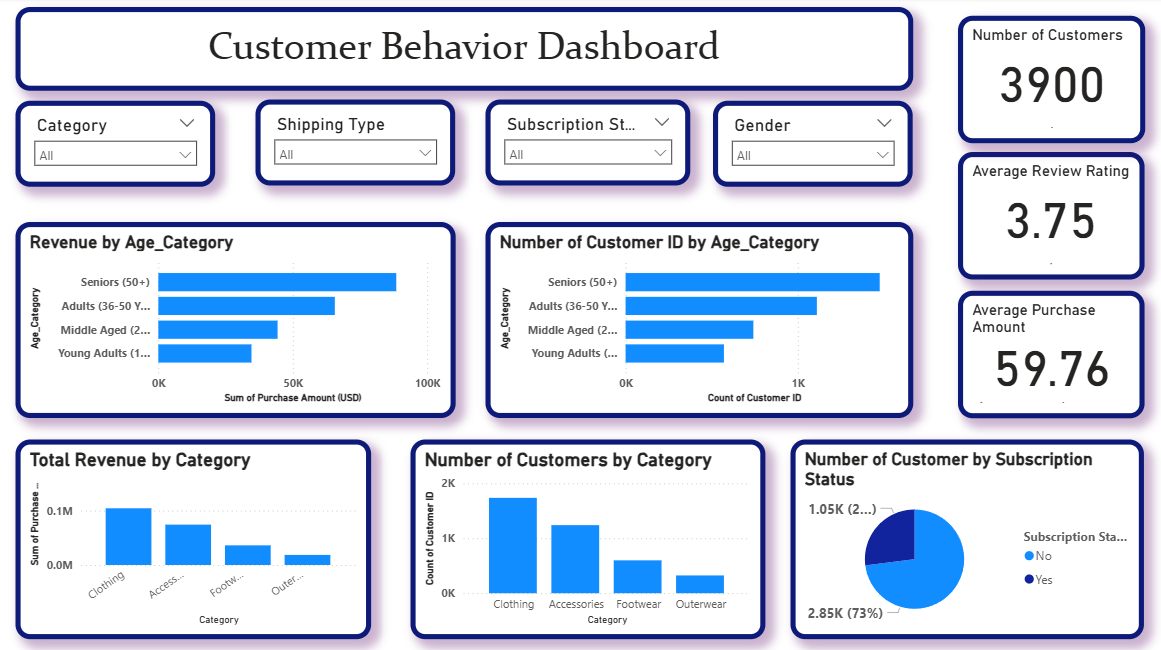

The page's visual inventory and layout, read from the dashboard file:
{"tool":"powerbi","page":{"name":"Page 1","canvas":[1280,720],"ordinal":0},"visuals":[{"type":"textbox","box":[19.2,11,985.3,91.9],"z":0},{"type":"pieChart","title":"Number of Customer by Subscription Status","fields":{"Category":["CleanedData.Subscription Status"],"Y":["CountNonNull(CleanedData.Customer ID)"]},"box":[870,485.8,388.3,219.6],"z":2000},{"type":"clusteredColumnChart","title":"Total Revenue by Category","fields":{"Category":["CleanedData.Category"],"Y":["Sum(CleanedData.Purchase Amount (USD))"]},"box":[19.2,485.8,390,219.6],"z":3000},{"type":"clusteredColumnChart","title":"Number of Customers by Category","fields":{"Category":["CleanedData.Category"],"Y":["CountNonNull(CleanedData.Customer ID)"]},"box":[452.8,485.8,389.7,219.6],"z":4000},{"type":"slicer","fields":{"Values":["CleanedData.Subscription Status"]},"box":[535.2,112.5,225,94.7],"z":5000},{"type":"slicer","fields":{"Values":["CleanedData.Gender"]},"box":[784.9,113.9,219.6,94.7],"z":6000},{"type":"slicer","fields":{"Values":["CleanedData.Category"]},"box":[19.2,113.9,219.6,94.7],"z":7000},{"type":"slicer","fields":{"Values":["CleanedData.Shipping Type"]},"box":[282.7,112.5,219.6,94.7],"z":8000},{"type":"clusteredBarChart","title":"Revenue by Age_Category","fields":{"Y":["Sum(CleanedData.Purchase Amount (USD))"],"Category":["CleanedData.Age_Category"]},"box":[19.2,247,483,215.4],"z":8001},{"type":"clusteredBarChart","title":"Number of Customer ID by Age_Category","fields":{"Category":["CleanedData.Age_Category"],"Y":["CountNonNull(CleanedData.Customer ID)"]},"box":[535.2,247,469.3,215.4],"z":8002},{"type":"card","title":"Average Purchase Amount","fields":{"Values":["CleanedData.Average purchase amount"]},"box":[1053.9,322.5,204.5,140],"z":8003},{"type":"card","title":"Average Review Rating","fields":{"Values":["CleanedData.Average review rating"]},"box":[1053.9,170.2,204.5,140],"z":8004},{"type":"card","title":"Number of Customers","fields":{"Values":["CountNonNull(CleanedData.Customer ID)"]},"box":[1053.9,20.6,205.8,140],"z":8005}]}

Visuals, with their boxes in screenshot pixels (x1, y1, x2, y2), scaled from the page's 1280x720 canvas onto the 1161x650 screenshot:
textbox: [17,10,911,93]
"Number of Customer by Subscription Status" pieChart: [789,439,1141,637]
"Total Revenue by Category" clusteredColumnChart: [17,439,371,637]
"Number of Customers by Category" clusteredColumnChart: [411,439,764,637]
slicer - CleanedData.Subscription Status: [485,102,690,187]
slicer - CleanedData.Gender: [712,103,911,188]
slicer - CleanedData.Category: [17,103,217,188]
slicer - CleanedData.Shipping Type: [256,102,456,187]
"Revenue by Age_Category" clusteredBarChart: [17,223,456,417]
"Number of Customer ID by Age_Category" clusteredBarChart: [485,223,911,417]
"Average Purchase Amount" card: [956,291,1141,418]
"Average Review Rating" card: [956,154,1141,280]
"Number of Customers" card: [956,19,1143,145]
